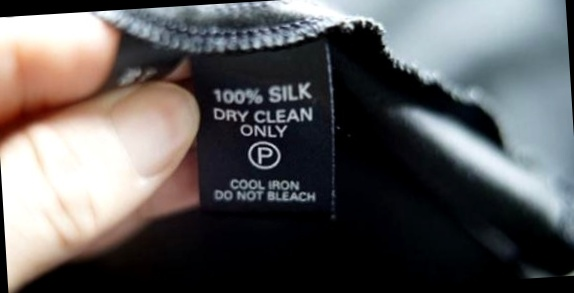dry_clean_any_solvent_except_trichloroethylene: (248, 138, 283, 170)
